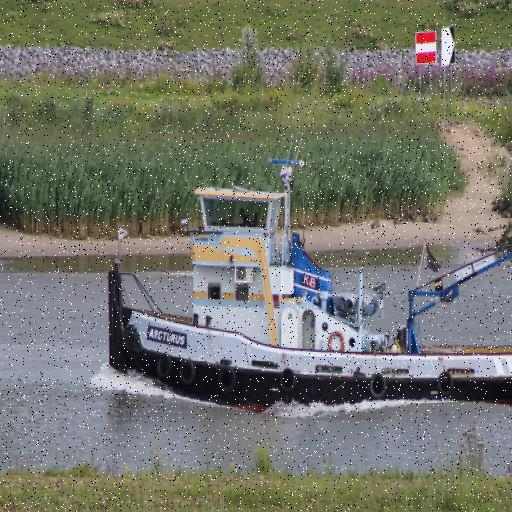tugboat: (106, 131, 512, 425)
